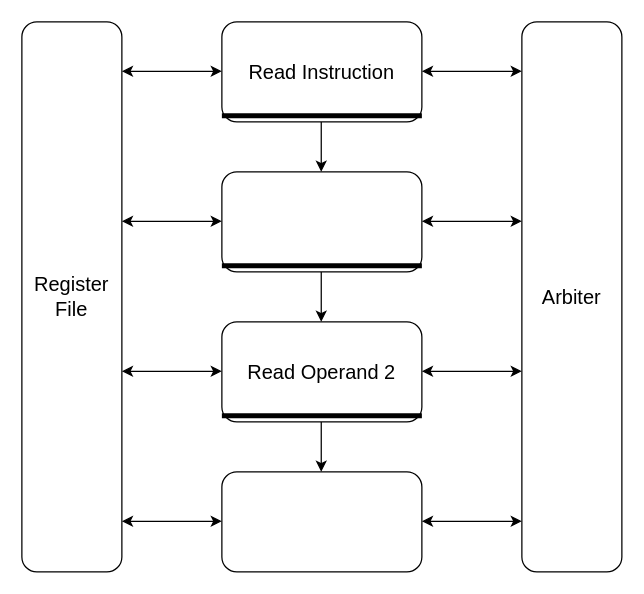
Image size: 644x594. Some labels were removed from this diagram. Here are the shapes that lost their labels. From the top down, the centre of each, then its label:
At pixel 321 221: "Read Operand 1".
At pixel 321 521: "Write Result".
